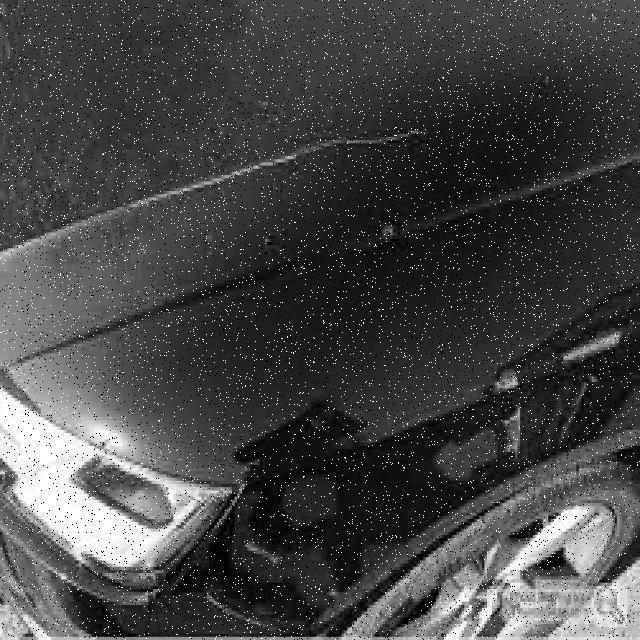bonnet-dent: (0, 4, 638, 517)
